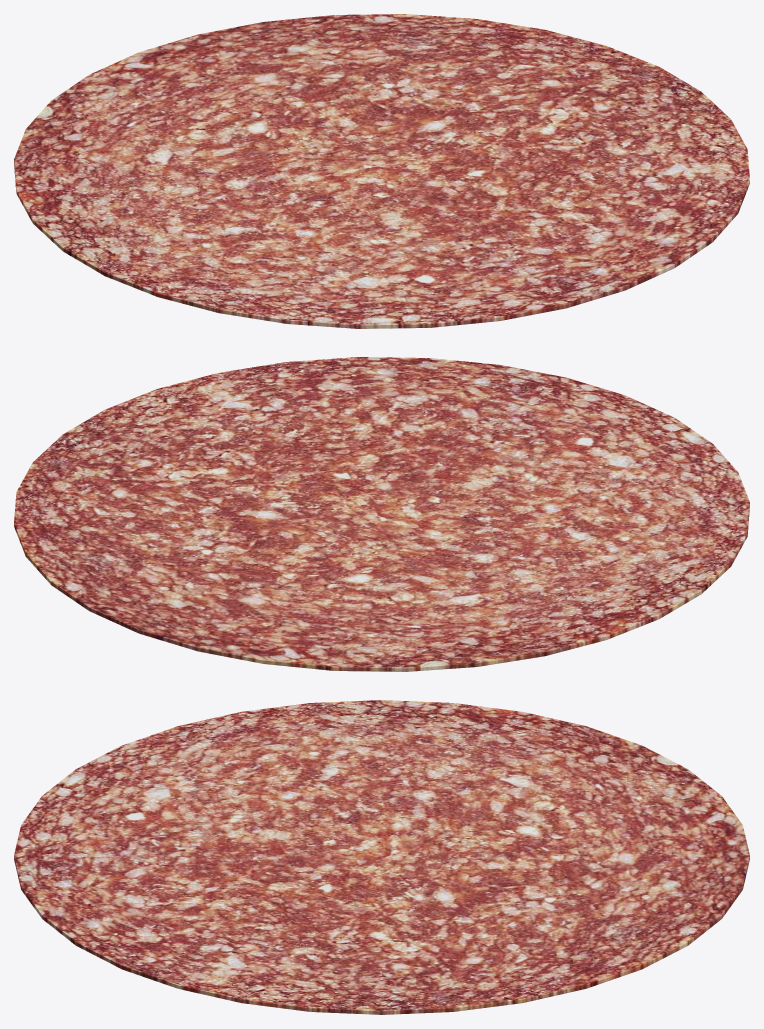
The model's file is salame_non_usare.fbx.
The picture shows the model from 3 angles, top to bottom: view 1: azimuth 30°, elevation 25°; view 2: azimuth 150°, elevation 25°; view 3: azimuth 270°, elevation 25°; orthographic projection.
Parts seen in each view (by area): view 1: Cylinder; view 2: Cylinder; view 3: Cylinder.
Boxes of the visible parts, <box> form: Cylinder: <box>14,14,749,328</box>; Cylinder: <box>14,357,749,671</box>; Cylinder: <box>14,700,749,1014</box>.
Bounding box in the file's own units: 203 × 1.19 × 203.
